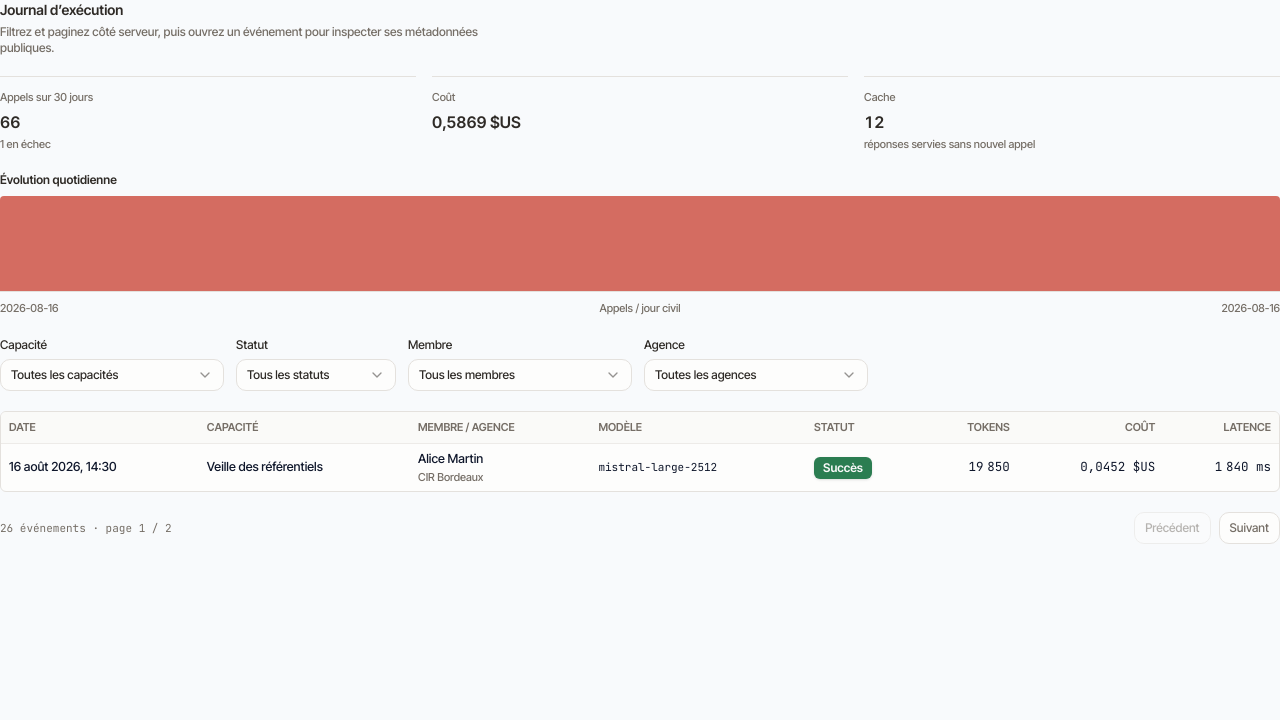
AiJournalView › ouvre le Dialog partagé sur un run watch avec tokens décomposés, coût, latence et metadata.vertical
The width and height of the screenshot is (1280, 720).
Expected: the text "Alice Martin" is shown, [418,451,483,466]
Click the row named "Inspecter l’événement req-watch-exec-999": click(640, 467) [1,444,1279,491]
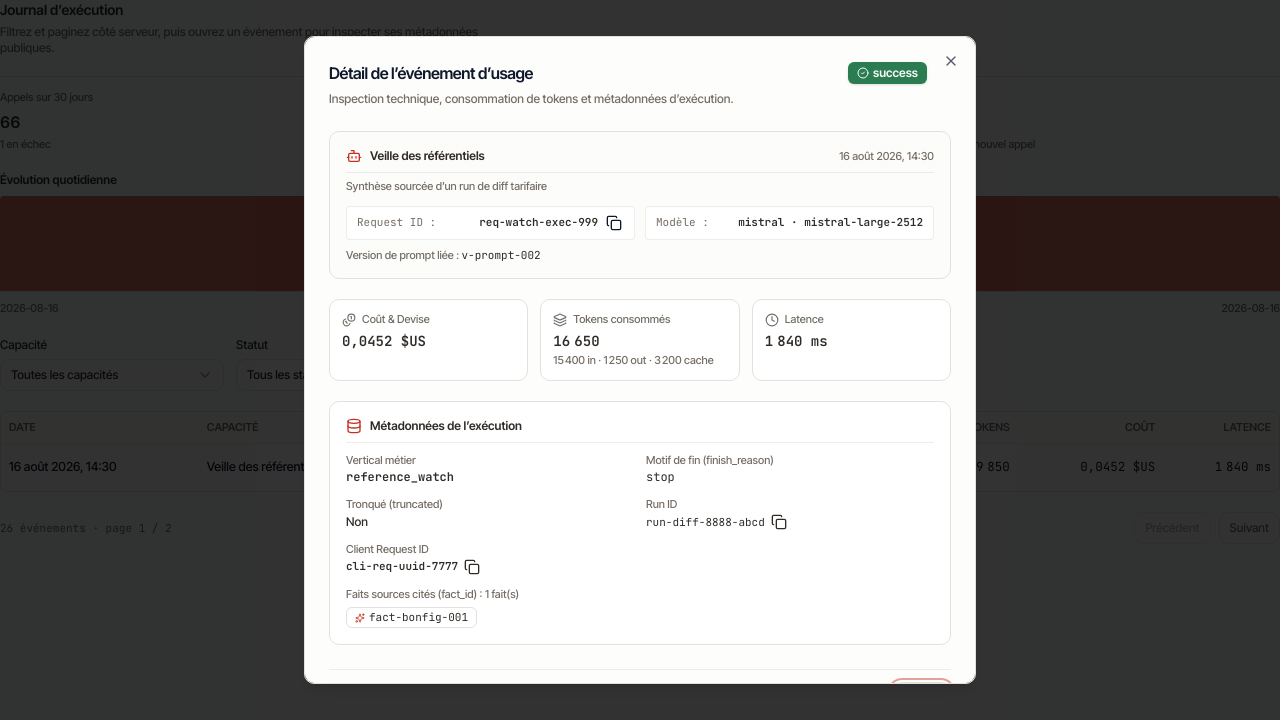
Expected: the text "req-watch-exec-999" is shown, [479,215,598,230]
Expected: the text "15 400 in · 1 250 out · 3 200 cache" is shown, [553,353,727,368]
Expected: the text "1 840 ms" is shown, [765,332,828,350]
